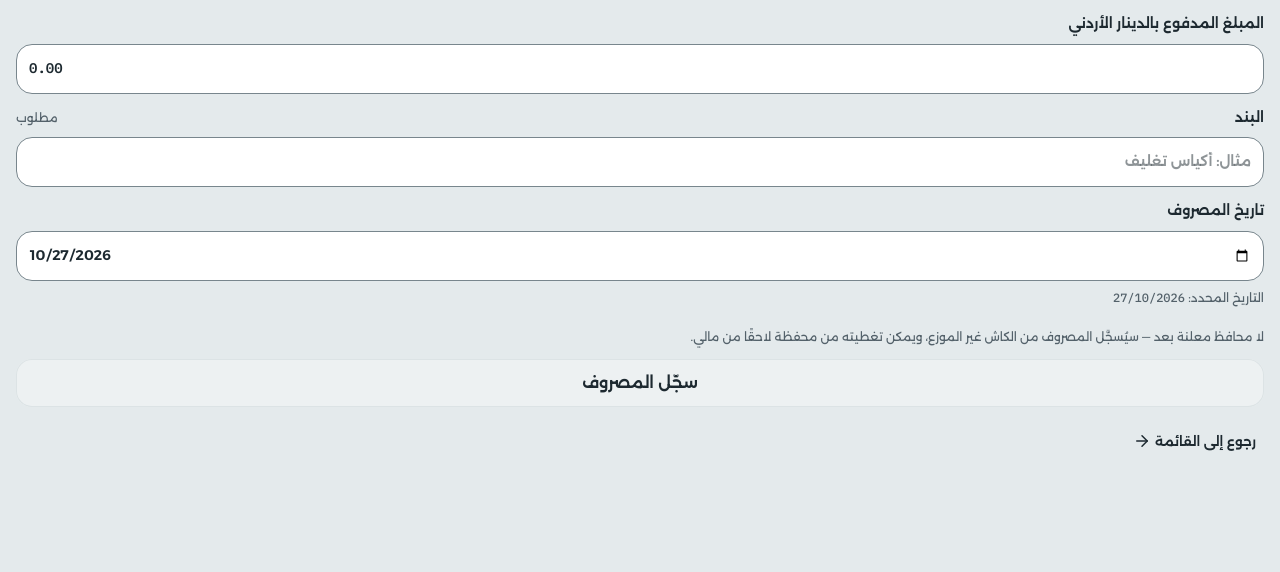
Scenario: EXE-007 — quick sheet is the compact mode of the same expense journey › requires the note in the quick sheet too — no manufactured text attributed to the owner
Type "3" into the field named "مبلغ المصروف" at point(640, 69), box [16,44,1264,94]
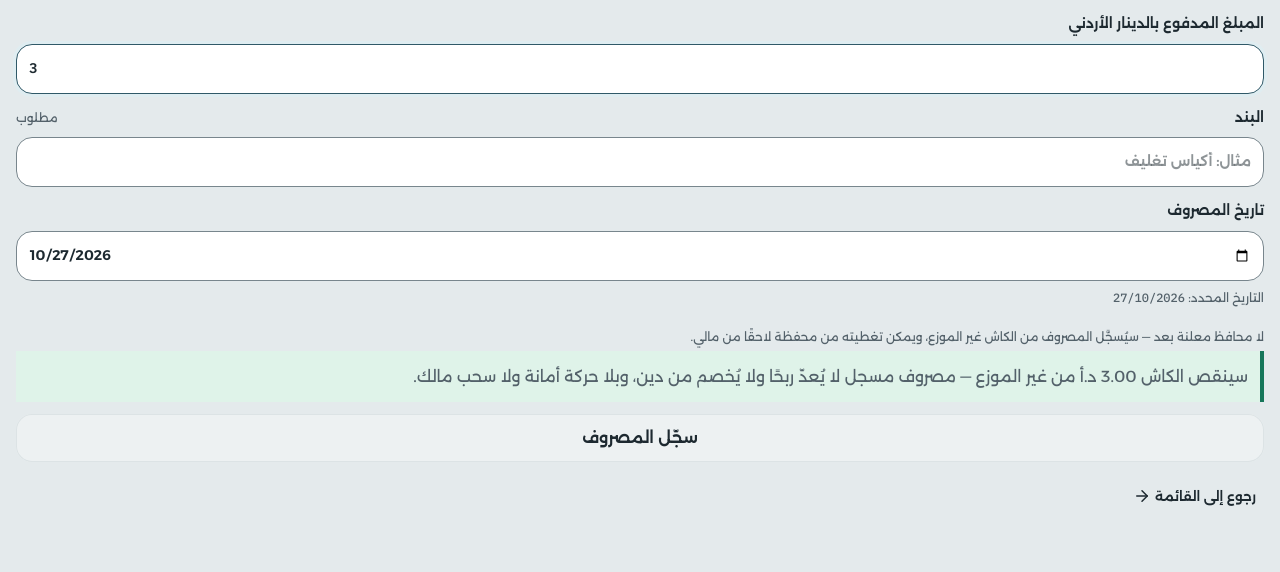
Click the button "سجّل المصروف" at point(640, 438), box [16,414,1264,462]
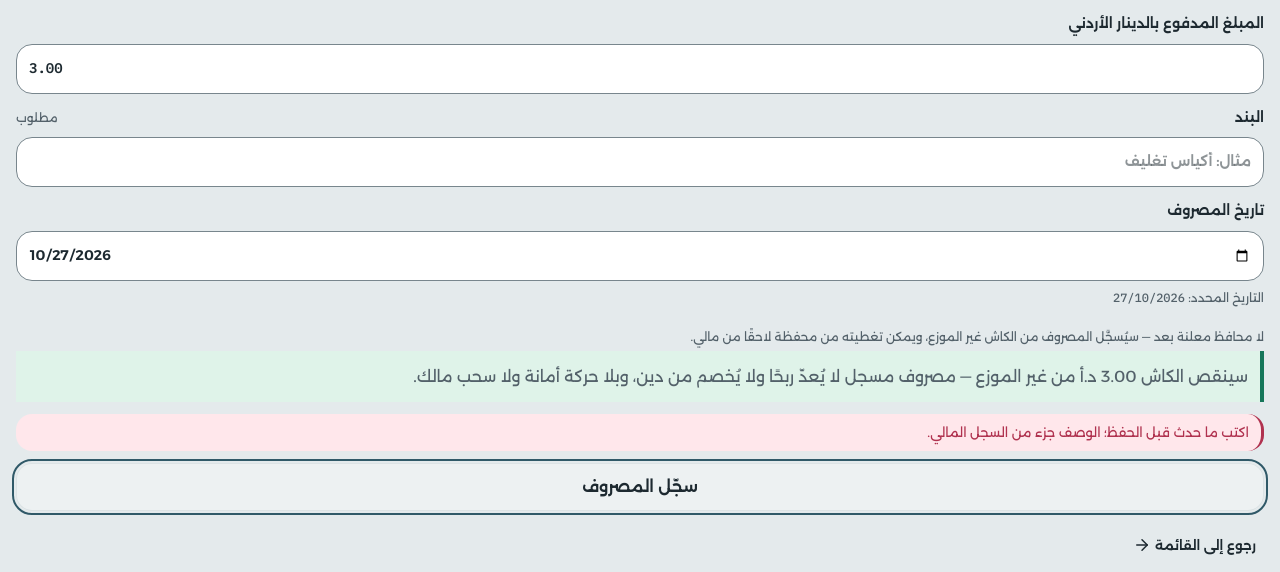
Expected: the text "اكتب ما حدث قبل الحفظ؛ الوصف جزء من السجل المالي." is shown, [16,414,1264,451]
